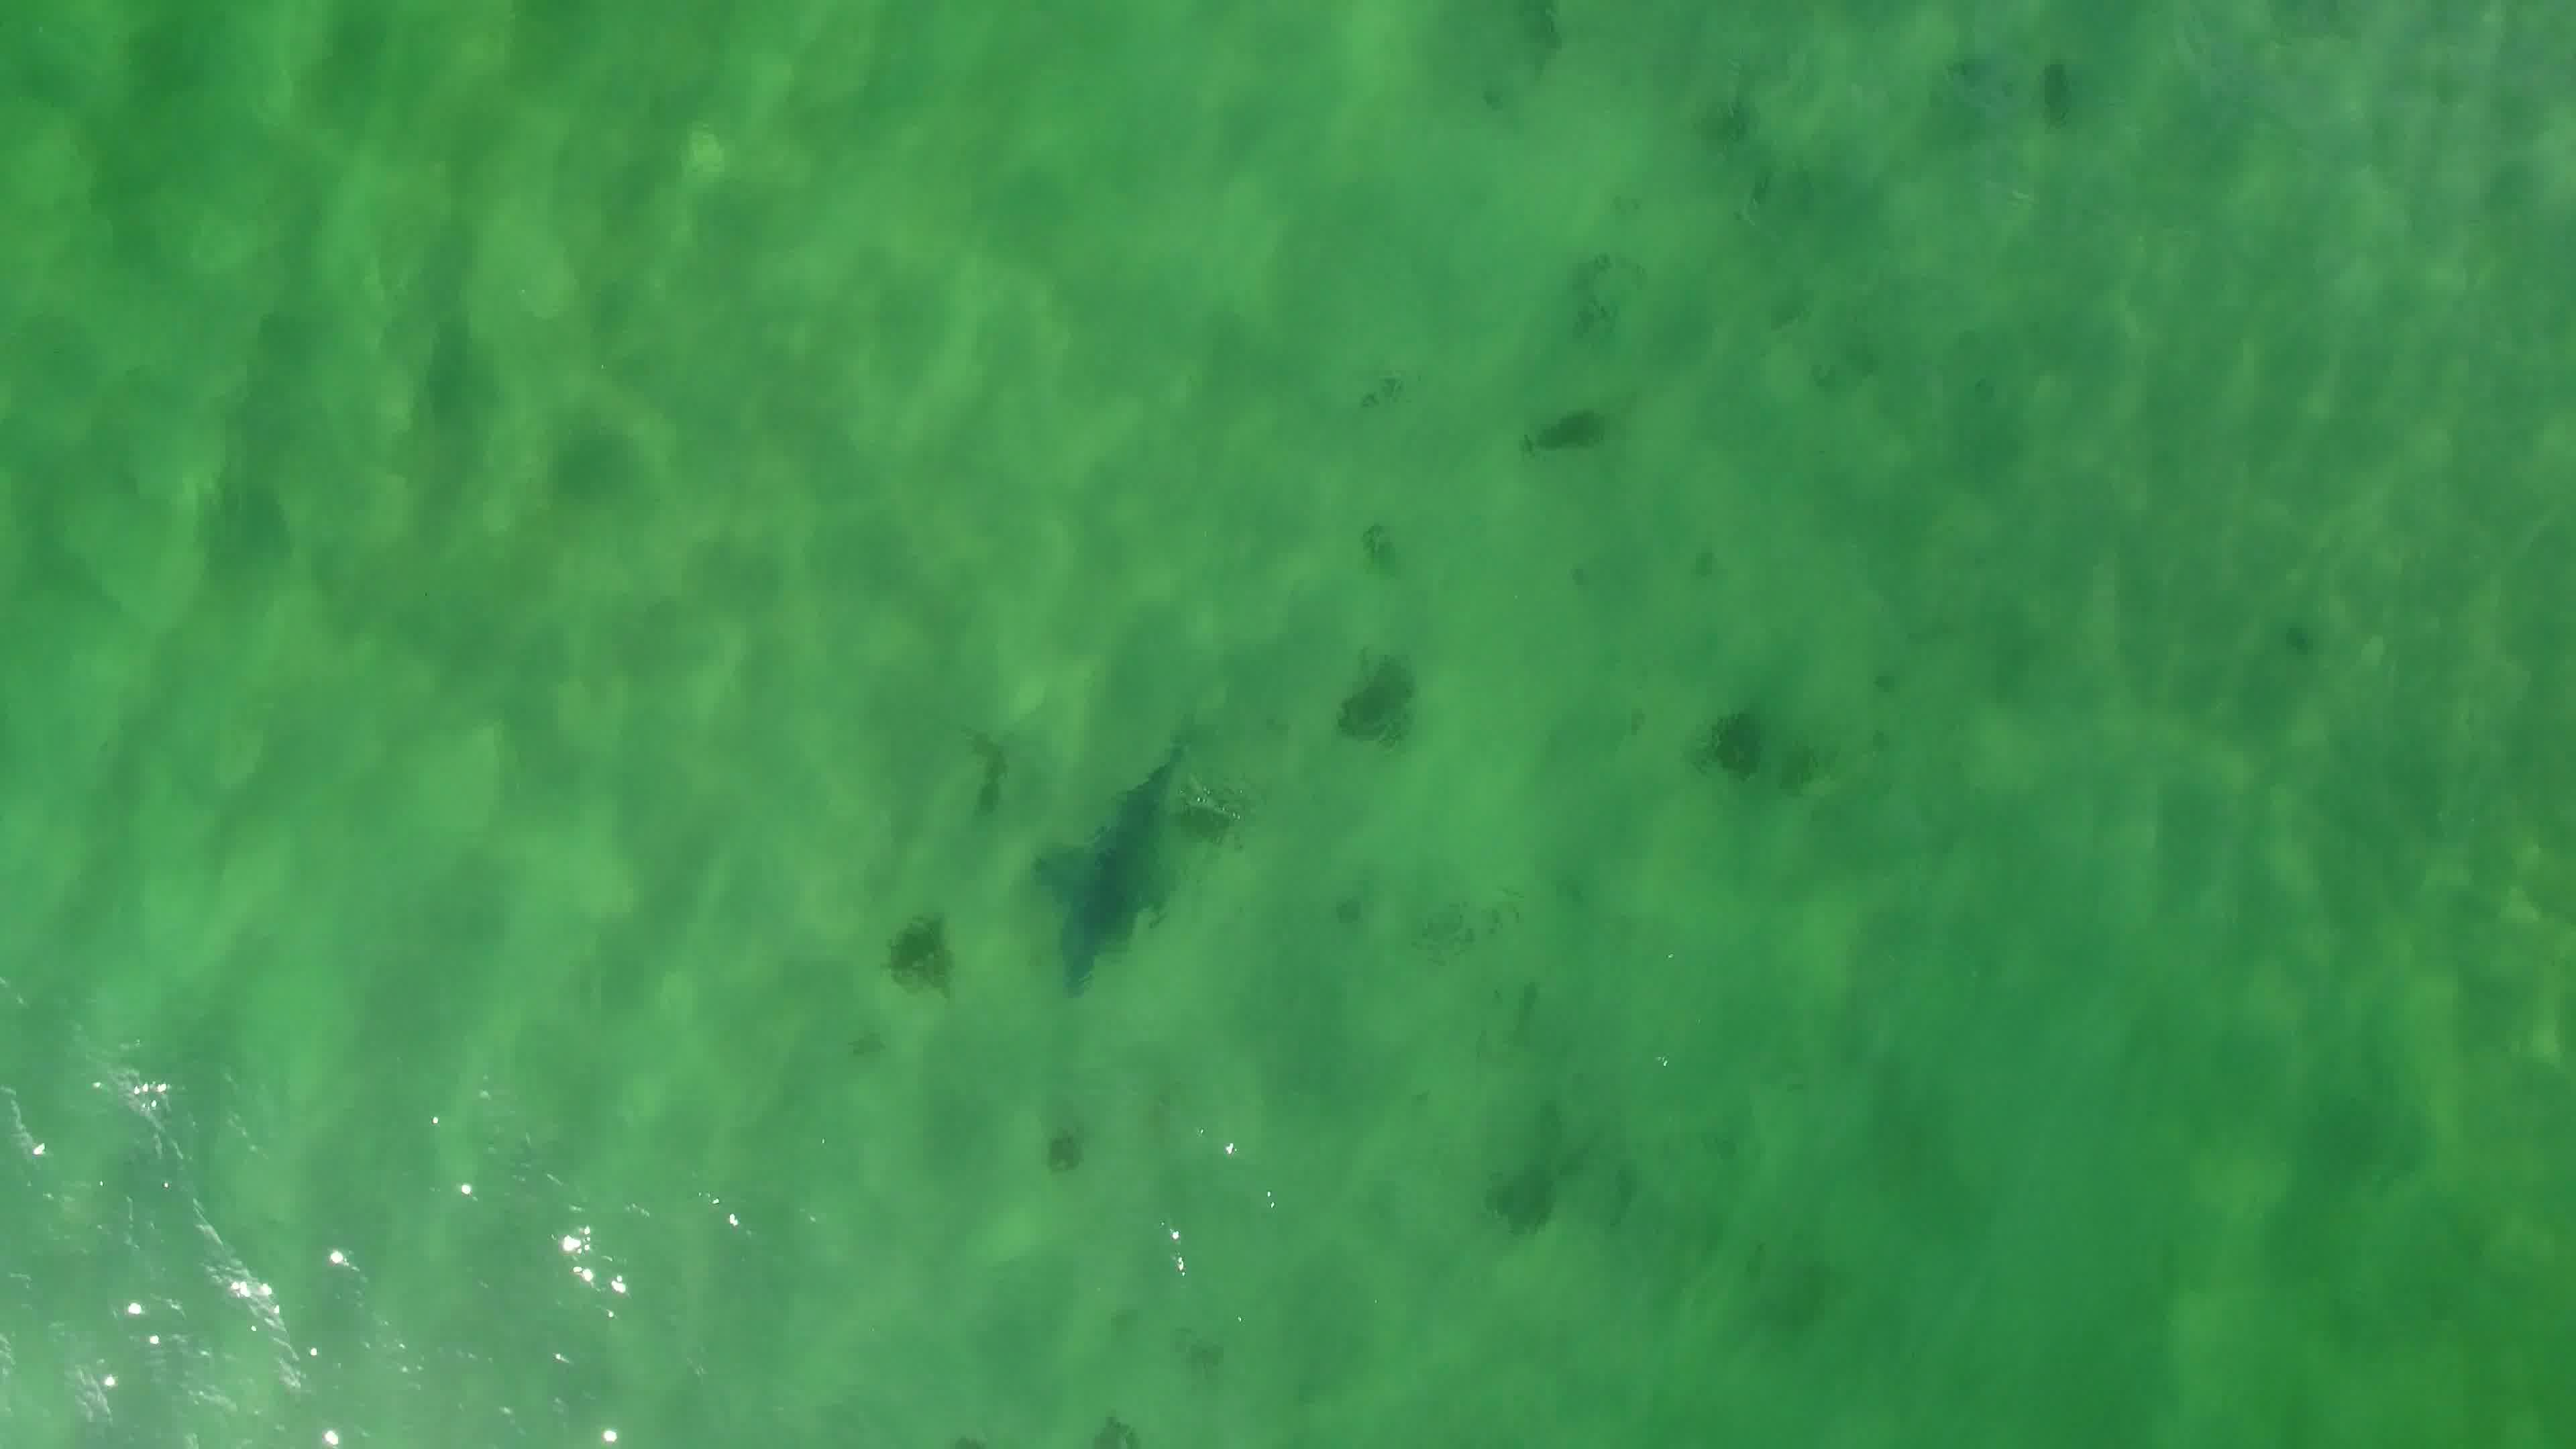shark: (1017, 748, 1191, 1007)
